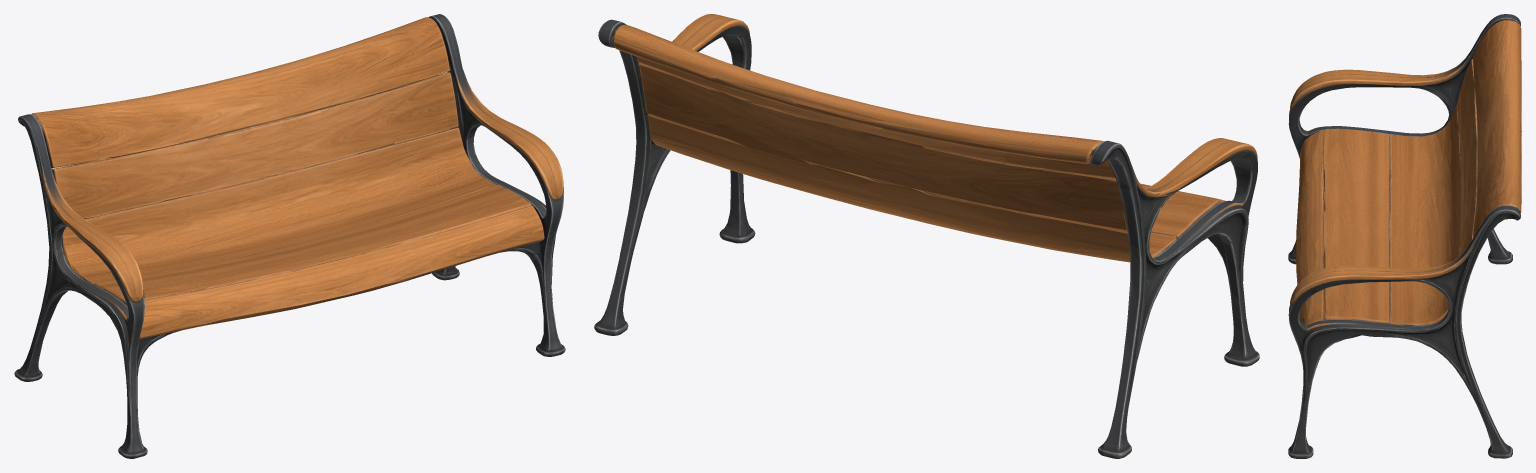
The model's file is pull-bench-a.glb.
The picture shows the model from 3 angles, left to right: view 1: azimuth 30°, elevation 25°; view 2: azimuth 150°, elevation 25°; view 3: azimuth 270°, elevation 25°; orthographic projection. The views are drawn at different scales.
Visible parts, largest first — view 1: output_unwrapped; view 2: output_unwrapped; view 3: output_unwrapped.
Boxes of the visible parts, bbox=[...] form: output_unwrapped: bbox=[14, 14, 565, 458]; output_unwrapped: bbox=[594, 14, 1259, 458]; output_unwrapped: bbox=[1288, 14, 1521, 458].
Bounding box in the file's own units: 1.9 × 1.05 × 0.9062.
1 material, 1 textured.
